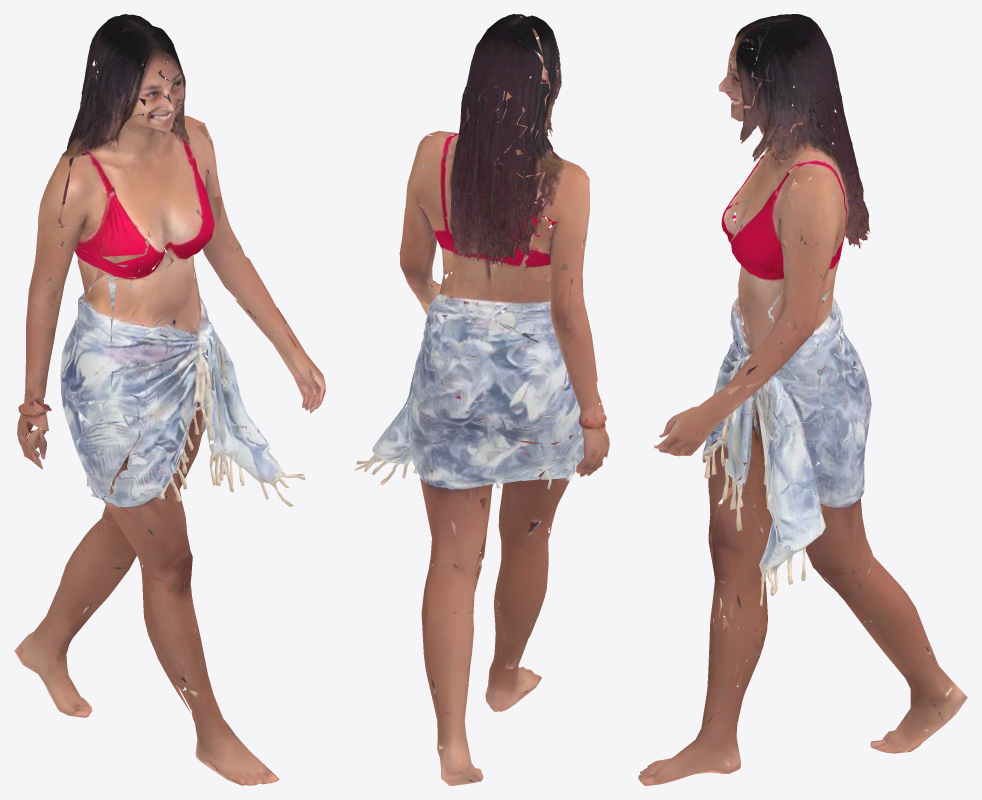
Rendered from gente_tropical_stroll.glb.
The picture shows the model from 3 angles, left to right: view 1: azimuth 30°, elevation 25°; view 2: azimuth 150°, elevation 25°; view 3: azimuth 270°, elevation 25°; orthographic projection.
Visible parts, largest first — view 1: norm; view 2: norm; view 3: norm.
Part boxes in pixels (x1,y1,x2,y2): norm: (14,14,325,785); norm: (354,14,609,785); norm: (638,14,967,785).
Size of the model in its own units: 0.6518 by 1.68 by 0.6875.
Materials: 1 (1 with a texture image).
